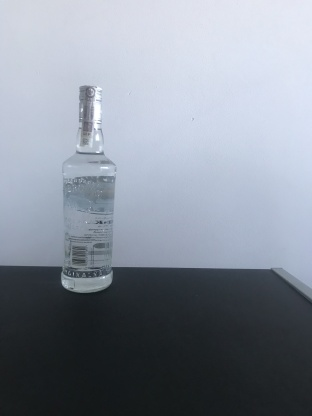nakretka: (76, 81, 104, 126)
